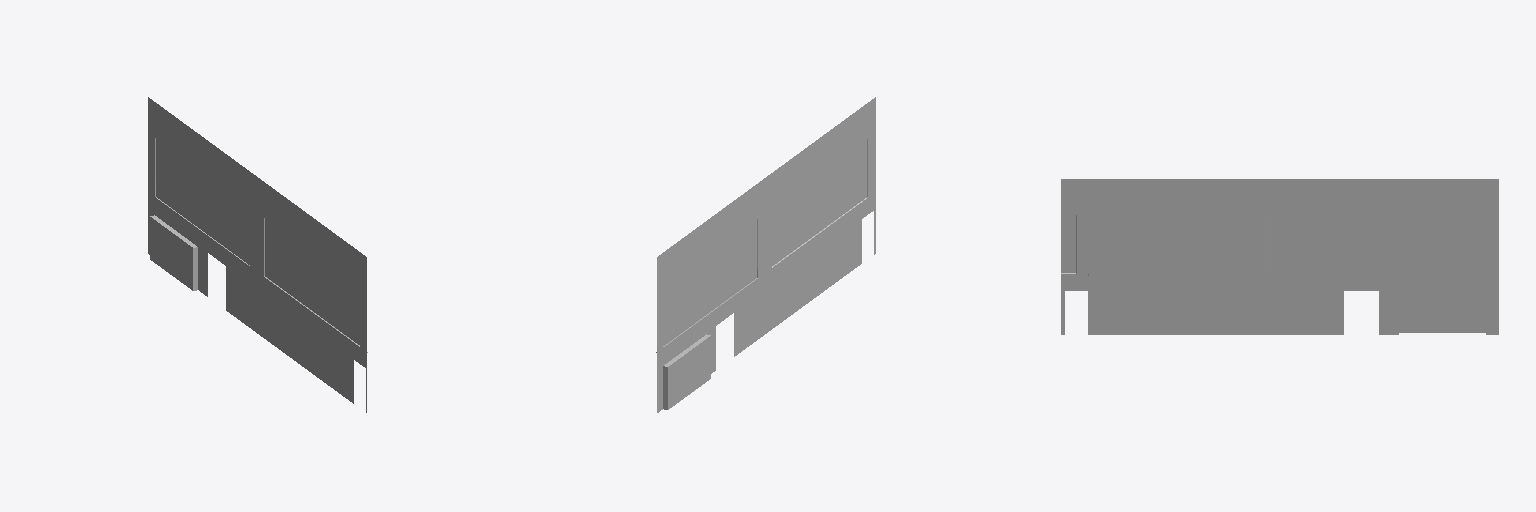
File: WallA.obj
3 views of the same model, side by side, from view 1: azimuth 30°, elevation 25°; view 2: azimuth 150°, elevation 25°; view 3: azimuth 270°, elevation 25° (orthographic).
Visible parts, largest first — view 1: WallAUpdate; view 2: WallAUpdate; view 3: WallAUpdate.
Part boxes in pixels (bbox=[...]): WallAUpdate: bbox=[148, 97, 366, 412]; WallAUpdate: bbox=[657, 97, 875, 412]; WallAUpdate: bbox=[1061, 179, 1498, 334].
Size of the model in its own units: 0.2919 by 7.65 by 19.39.